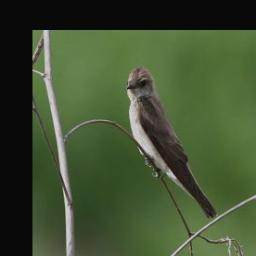Swallow: (125, 64, 220, 221)
